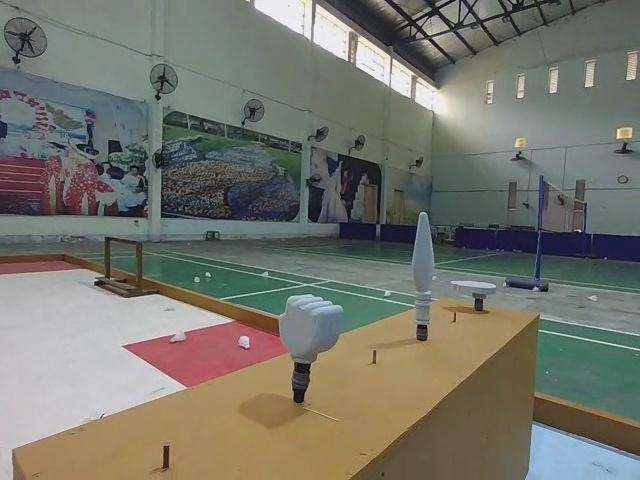Fist: (275, 289, 344, 401)
Hand: (448, 277, 497, 314)
Sph: (409, 209, 439, 342)
